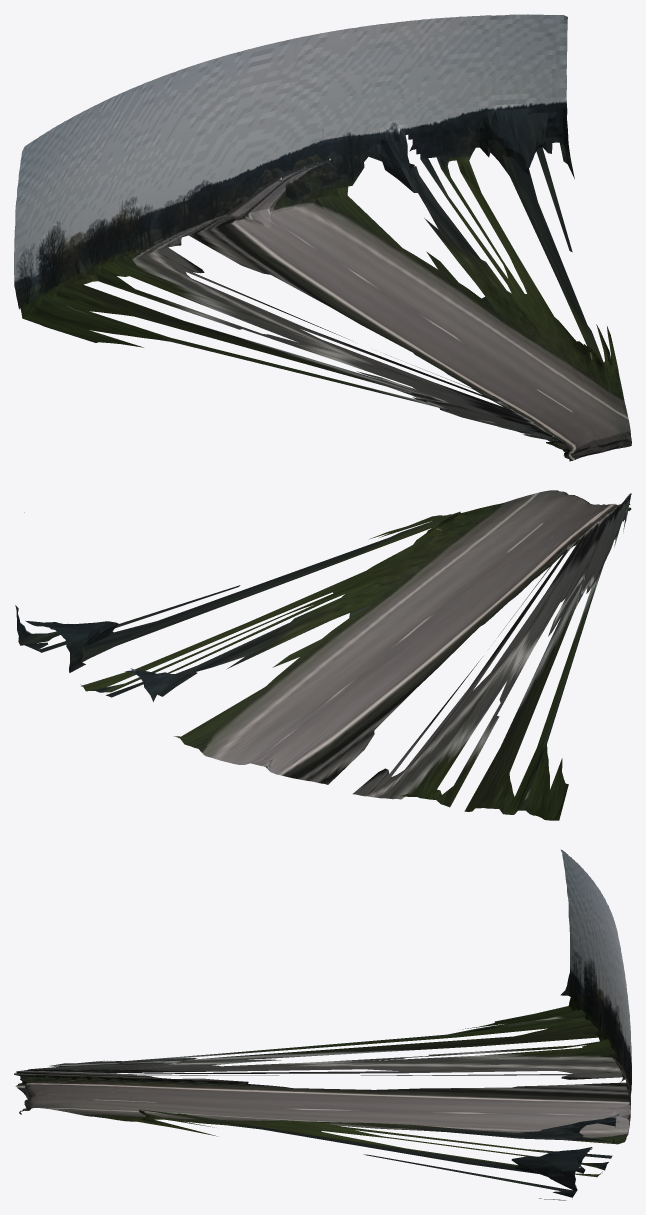
3 renders of one model, top to bottom at view 1: azimuth 30°, elevation 25°; view 2: azimuth 150°, elevation 25°; view 3: azimuth 270°, elevation 25°, orthographic. The views are drawn at different scales.
Visible parts, largest first — view 1: defaultobject; view 2: defaultobject; view 3: defaultobject.
Part boxes in pixels (box(x1,y1,x2,y2)): defaultobject: box(14, 14, 631, 461); defaultobject: box(15, 490, 631, 820); defaultobject: box(14, 849, 631, 1200).
Size of the model in its own units: 41.12 by 13.45 by 44.81.
1 material, 1 textured.
